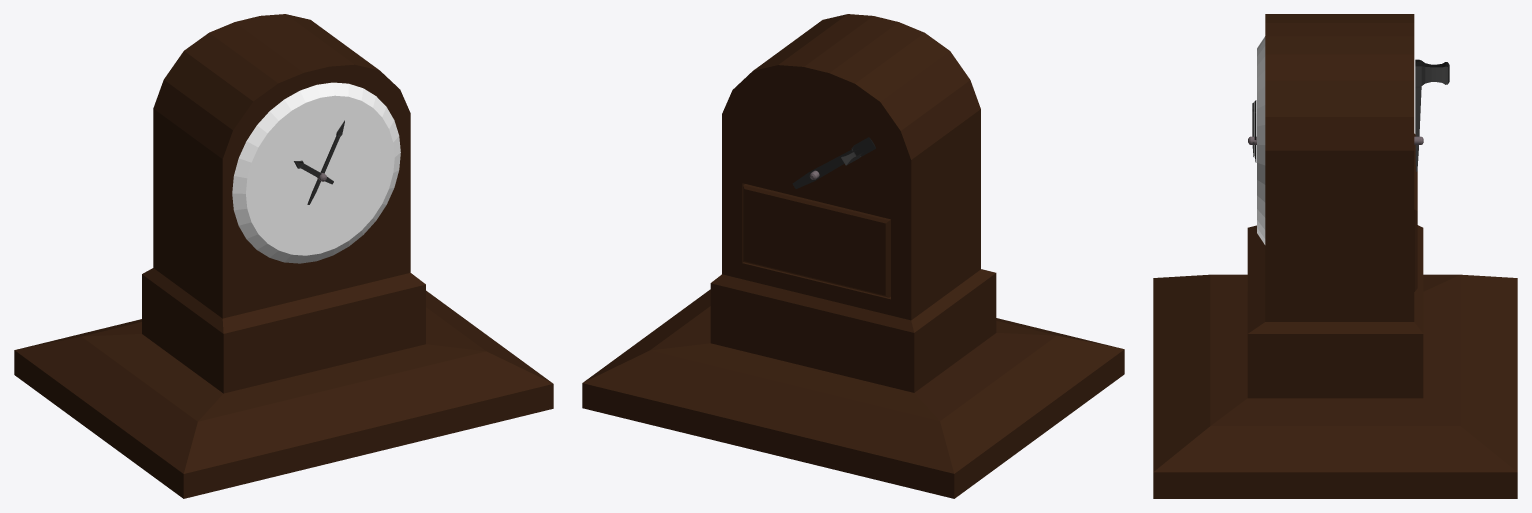
The model's file is V_Industrial01_Relogio.fbx.
3 renders of one model, left to right at view 1: azimuth 30°, elevation 25°; view 2: azimuth 150°, elevation 25°; view 3: azimuth 270°, elevation 25°, orthographic. The views are drawn at different scales.
Parts seen in each view (by area): view 1: Clock; view 2: Clock, HandHr; view 3: Clock, HandHr.
Part boxes in pixels (left/top/right/bottom): Clock: left=14, top=14, right=553, bottom=498; Clock: left=582, top=14, right=1124, bottom=498; HandHr: left=792, top=137, right=875, bottom=188; Clock: left=1153, top=14, right=1517, bottom=498; HandHr: left=1252, top=59, right=1449, bottom=171.
Size of the model in its own units: 252 by 226 by 200.
